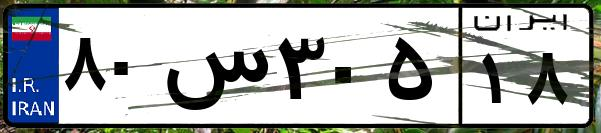0: (330, 28, 385, 110), (110, 28, 158, 98)
1: (475, 38, 525, 113)
3: (270, 28, 330, 110)
5: (385, 28, 445, 110)
8: (57, 26, 110, 100), (525, 38, 570, 115)
س: (158, 20, 270, 120)
